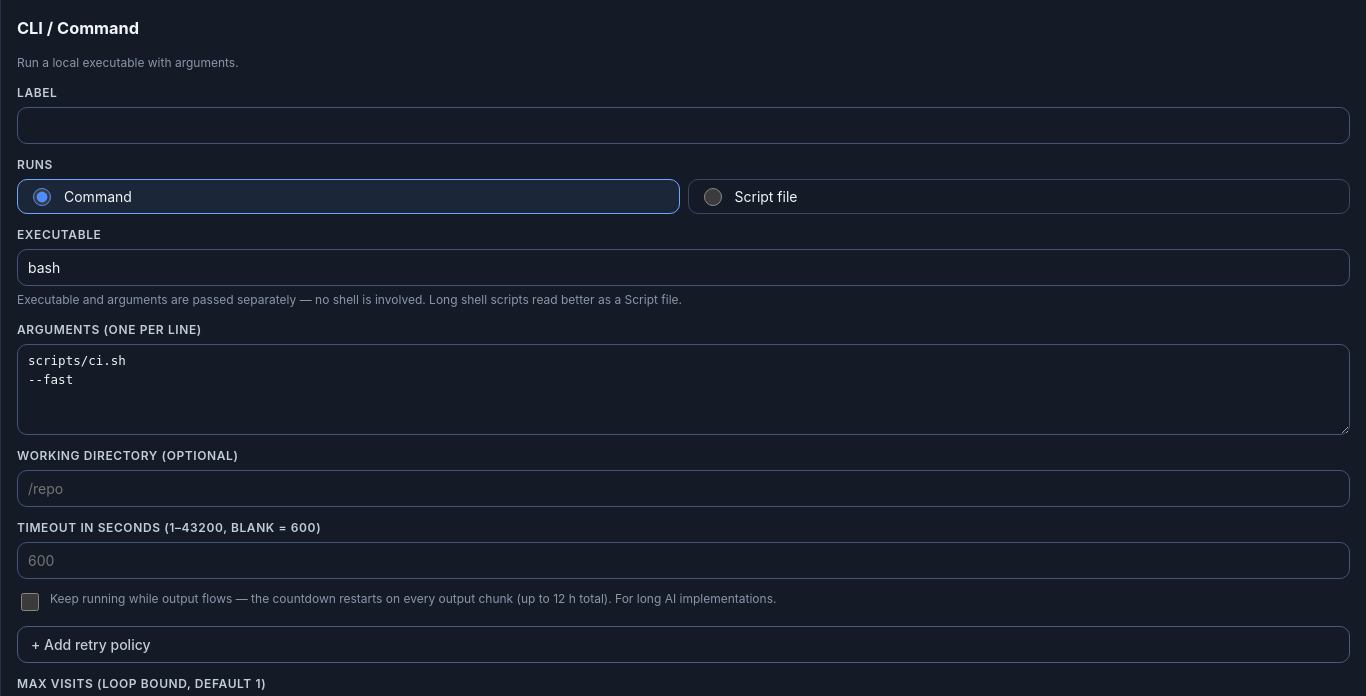
Scenario: switches a Command step between a command and a script file without losing anything
Click the radio button labelled "Script file" at (712, 197), box top-left (704, 188), bottom-right (722, 206)
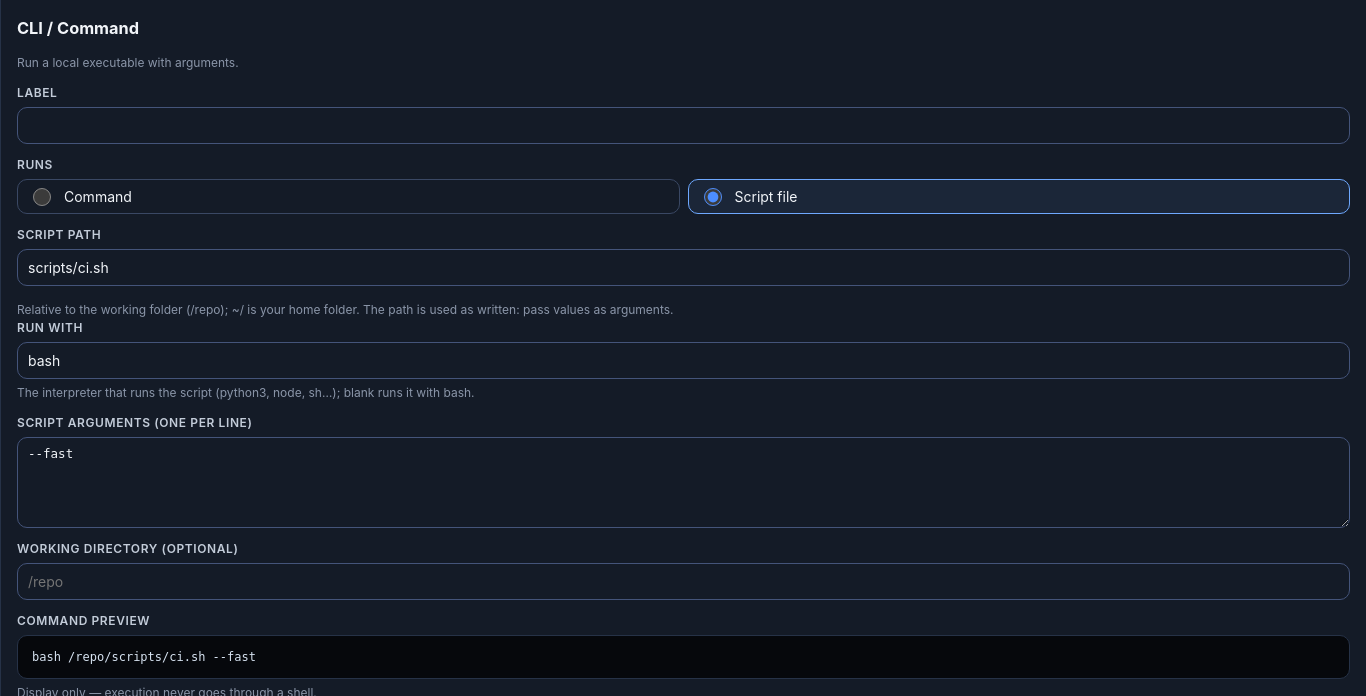
Check: the field labelled "Script path" holds "scripts/ci.sh", box top-left (17, 249), bottom-right (1350, 286)
Check: the text "bash /repo/scripts/ci.sh --fast" is shown, box top-left (17, 635), bottom-right (1350, 679)
Clear the field labelled "Run with" at (684, 361), box top-left (17, 342), bottom-right (1350, 379)
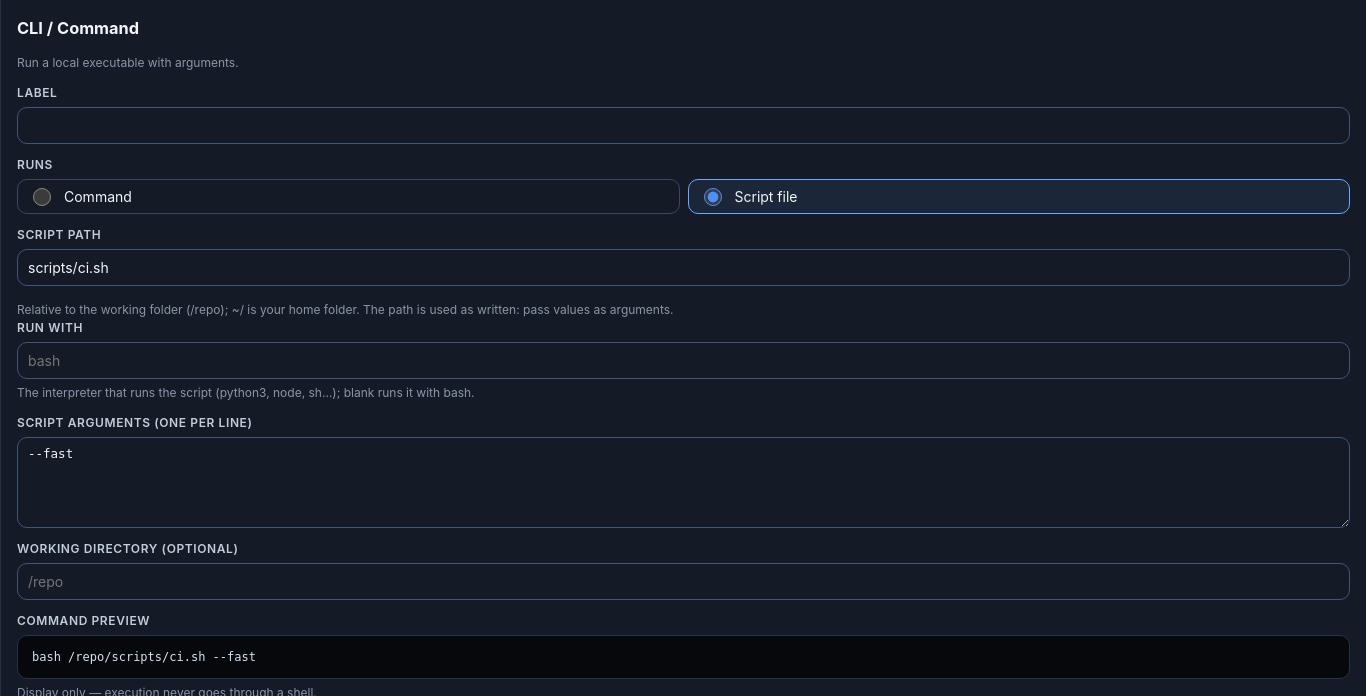
Replace the text in the field labelled "Script path" with "tools/check.sh" at (684, 268), box top-left (17, 249), bottom-right (1350, 286)
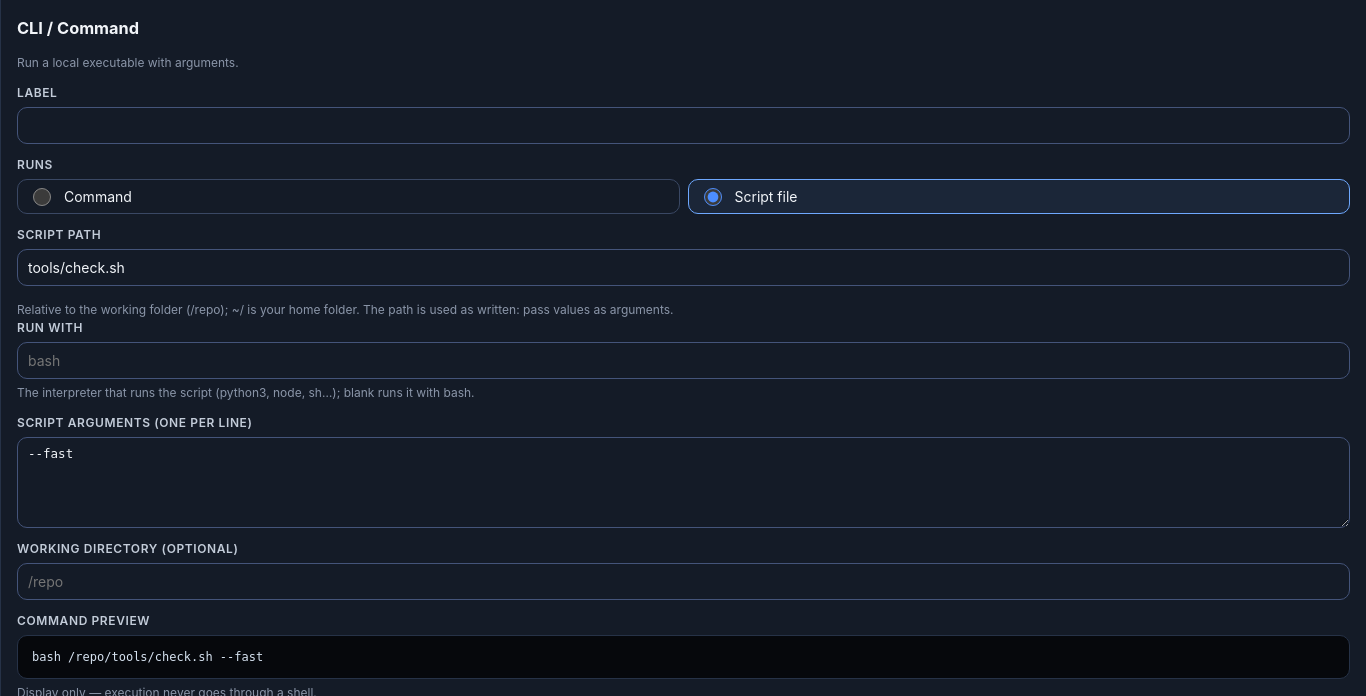
Check: the text "bash /repo/tools/check.sh --fast" is shown, box top-left (17, 635), bottom-right (1350, 679)
# Back to a command: the same file still runs, as bash's first argument.
Click the radio button labelled "Command" at (42, 197), box top-left (33, 188), bottom-right (51, 206)
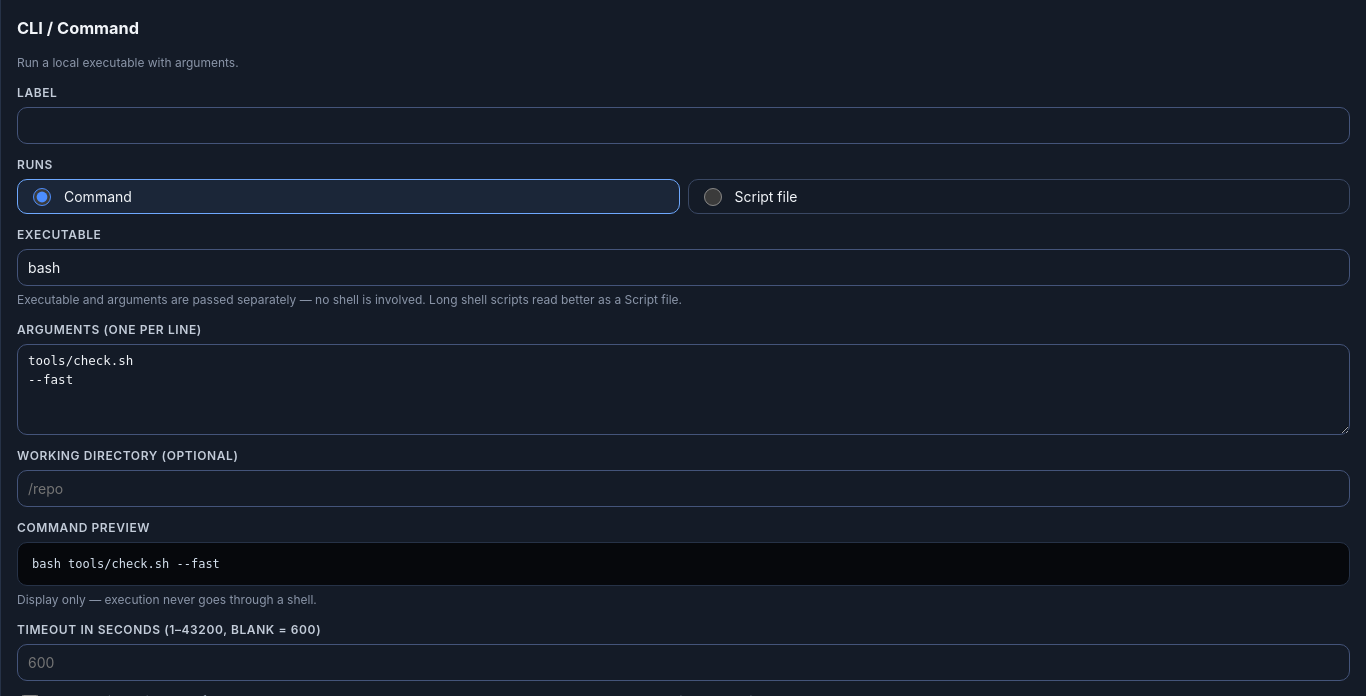
Check: the field labelled "Executable" holds "bash", box top-left (17, 249), bottom-right (1350, 286)
